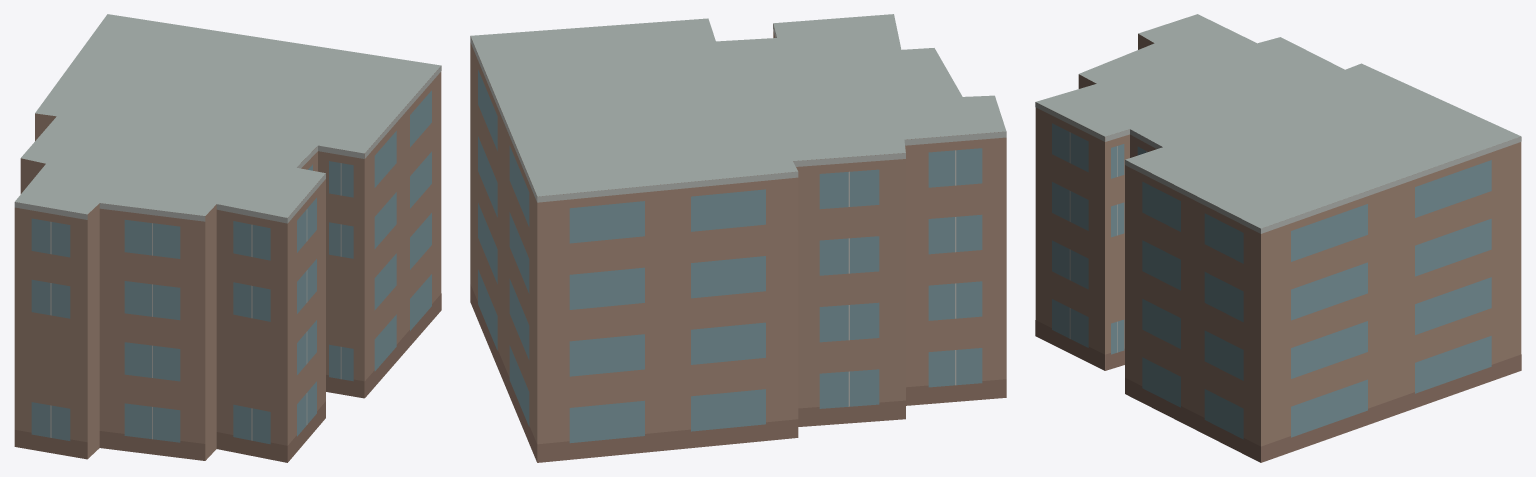
File: survey-upis-32816990.glb
The picture shows the model from 3 angles, left to right: view 1: azimuth 30°, elevation 25°; view 2: azimuth 150°, elevation 25°; view 3: azimuth 270°, elevation 25°; orthographic projection. The views are drawn at different scales.
Parts seen in each view (by area): view 1: survey-upis-32816990.tmp; view 2: survey-upis-32816990.tmp; view 3: survey-upis-32816990.tmp.
Part boxes in pixels (x1=…): survey-upis-32816990.tmp: x1=14, y1=14, x2=441, y2=462; survey-upis-32816990.tmp: x1=470, y1=14, x2=1006, y2=462; survey-upis-32816990.tmp: x1=1035, y1=14, x2=1521, y2=462.
Size of the model in its own units: 21.04 by 10.7 by 20.13.
